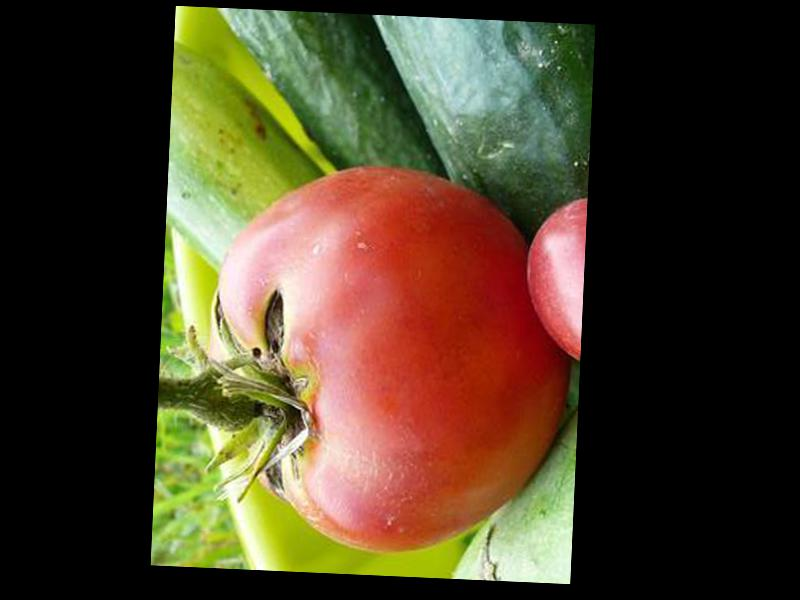Tomato: (205, 162, 579, 561)
